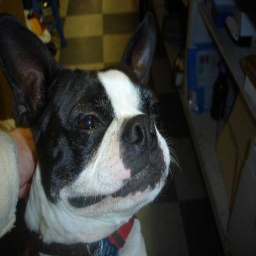dog: (3, 15, 175, 256)
